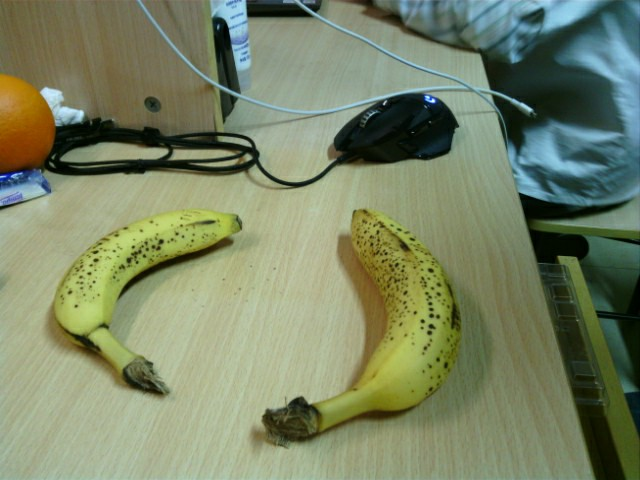normal_banana: (260, 208, 459, 449), (53, 209, 243, 399)
